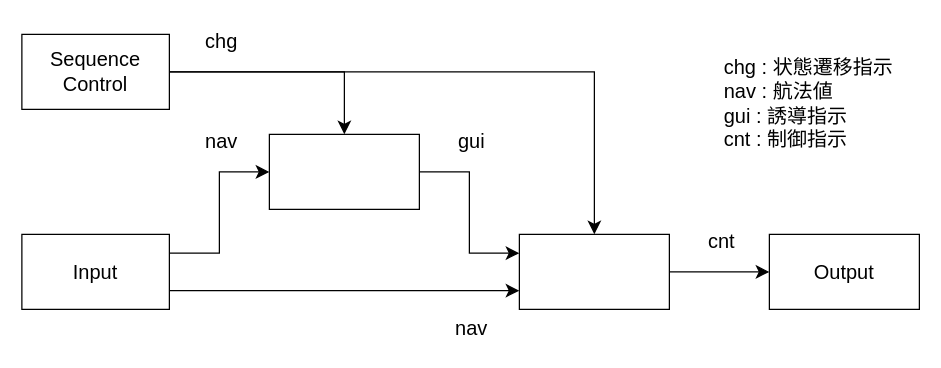
Image size: 941x368. Some labels were removed from this diagram. Each missing label, with the centre of its shape:
"Rotation Control" belongs at point 593,271.
"Translation Guidance" belongs at point 343,171.
